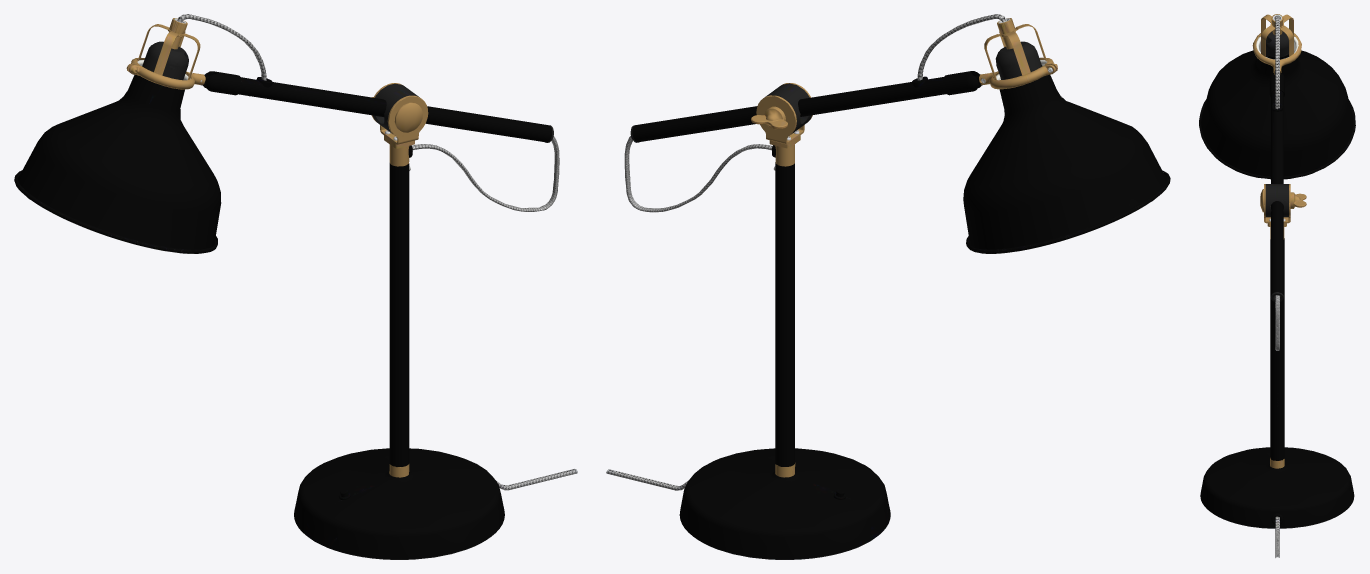
Rendered from RANARP work lamp.glb.
The picture shows the model from 3 angles, left to right: view 1: azimuth 30°, elevation 25°; view 2: azimuth 150°, elevation 25°; view 3: azimuth 270°, elevation 25°; orthographic projection. The views are drawn at different scales.
Visible parts, largest first — view 1: 30231315-RANARP001; view 2: 30231315-RANARP001; view 3: 30231315-RANARP001.
Boxes of the visible parts, box(x1,y1,x2,y2) form: 30231315-RANARP001: box(14, 14, 577, 559); 30231315-RANARP001: box(606, 14, 1170, 559); 30231315-RANARP001: box(1199, 14, 1355, 557).
Size of the model in its own units: 0.5523 by 0.5342 by 0.1878.
1 material, 1 textured.
